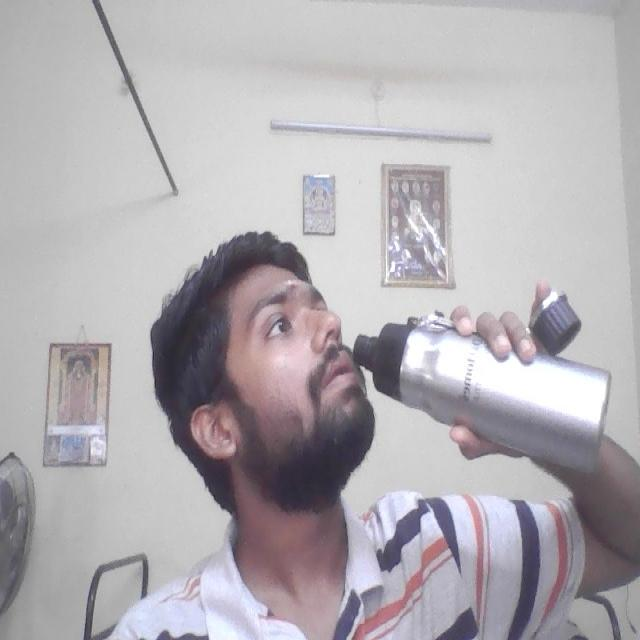Drinking: (356, 280, 618, 490)
